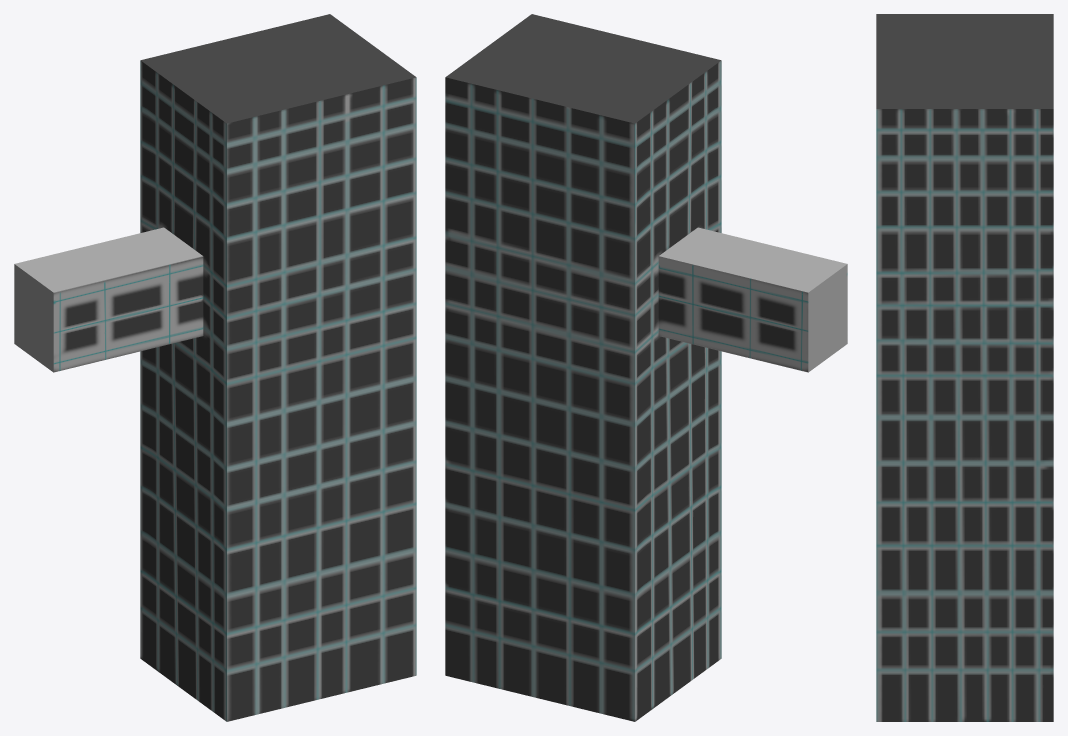
File: centraltower2 1.fbx
The picture shows the model from 3 angles, left to right: view 1: azimuth 30°, elevation 25°; view 2: azimuth 150°, elevation 25°; view 3: azimuth 270°, elevation 25°; orthographic projection. The views are drawn at different scales.
Parts seen in each view (by area): view 1: polySurface2; view 2: polySurface2; view 3: polySurface2.
Boxes of the visible parts, x1,y1,x2,y2 form: polySurface2: (14,14,416,721); polySurface2: (445,14,847,721); polySurface2: (876,14,1053,721).
Size of the model in its own units: 25.3 by 42.62 by 11.17.
Materials: 2 (1 with a texture image).
